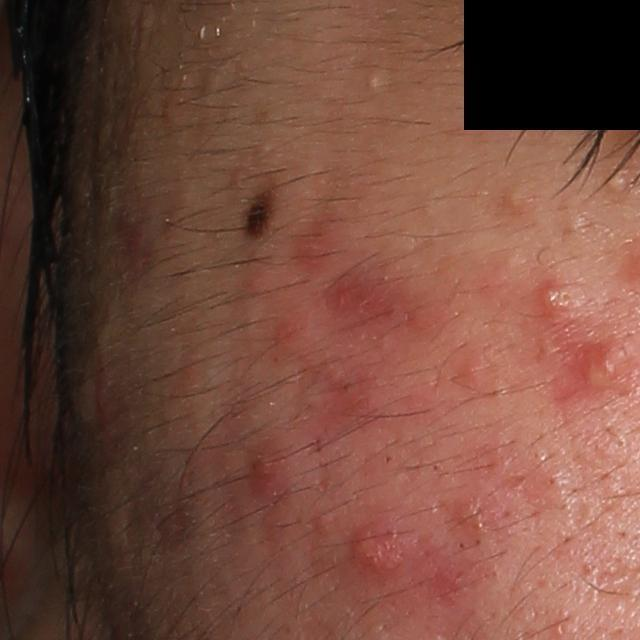comedo: (597, 166, 630, 200), (560, 214, 587, 241), (357, 73, 382, 94)
nevus: (238, 182, 279, 250)
papule: (341, 516, 409, 589), (566, 335, 637, 397), (323, 273, 384, 326), (246, 449, 287, 502), (502, 188, 534, 216)
